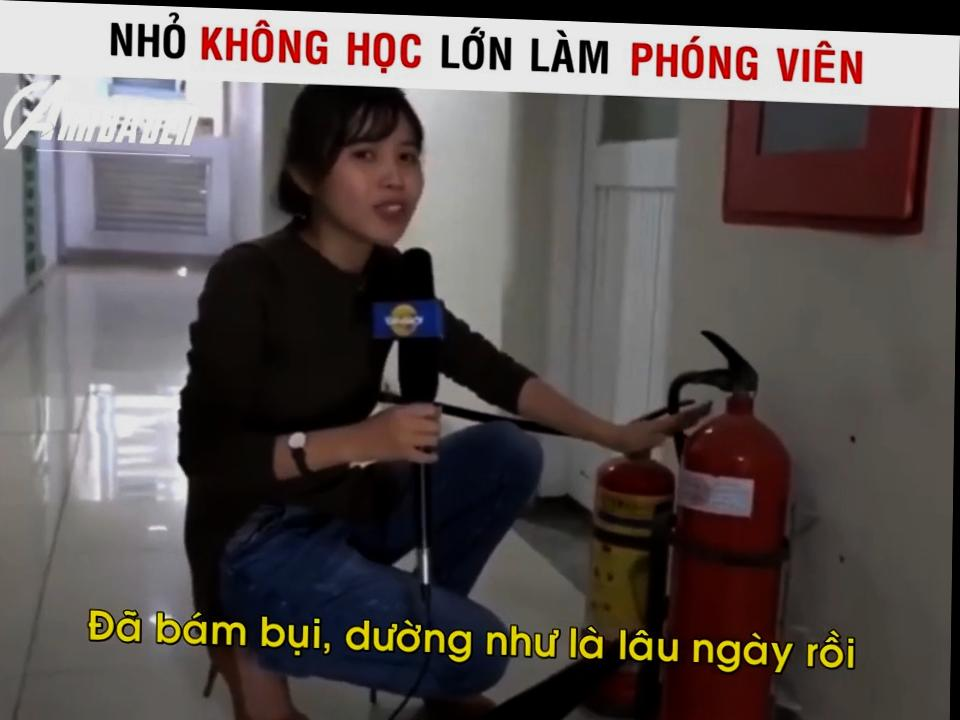FireExtinguisher: (659, 333, 789, 720), (574, 424, 676, 720)
not: (705, 74, 942, 237)
